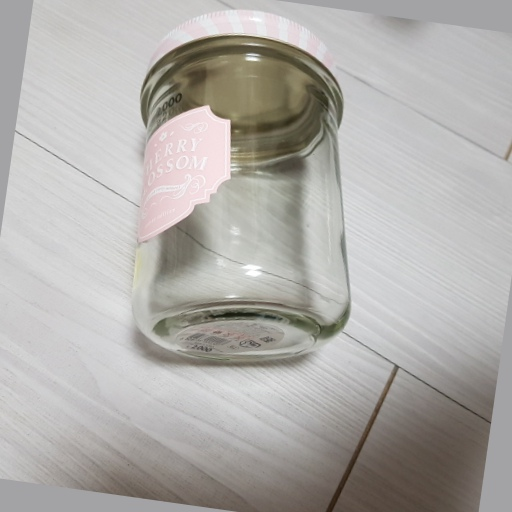Glass_5: (131, 8, 357, 359)
